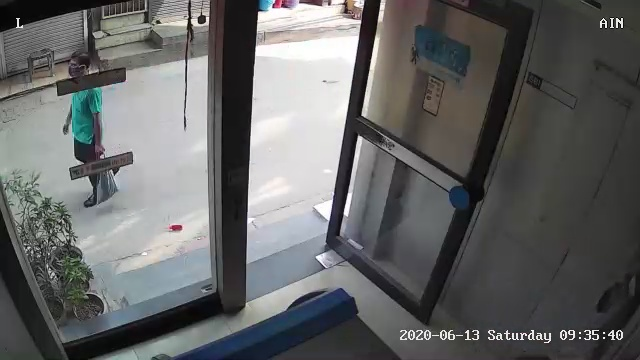open: (190, 4, 543, 340)
